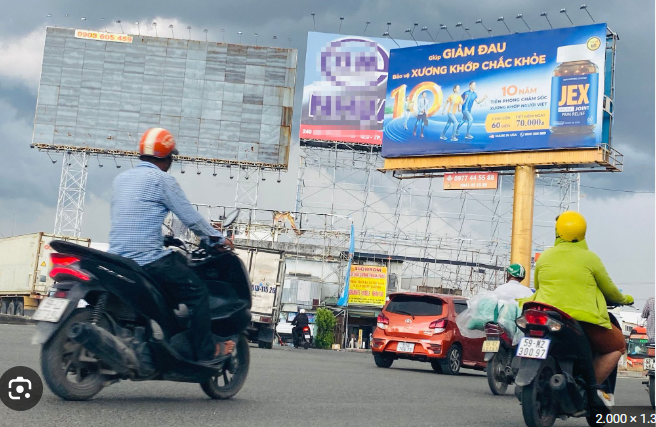bien_so: (29, 293, 70, 323), (513, 333, 554, 362), (480, 339, 502, 355)
